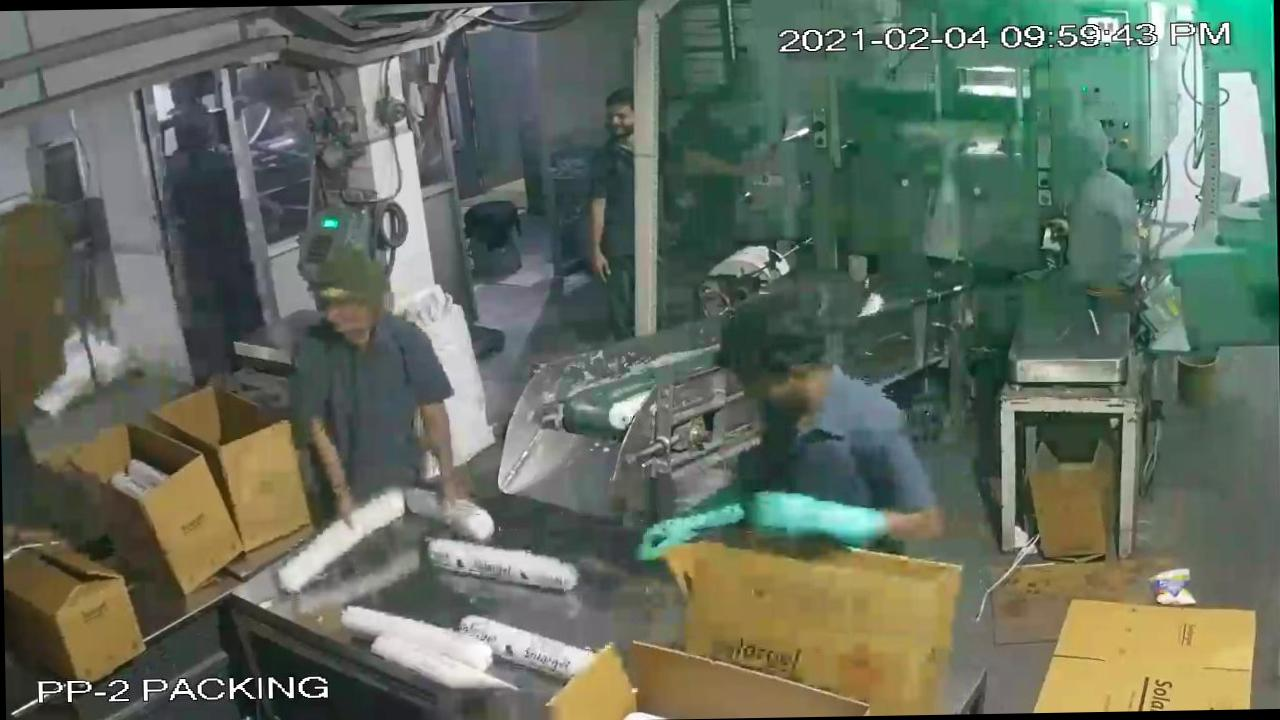Gloves: (744, 472, 957, 572), (605, 464, 768, 574)
No-gloves: (280, 387, 369, 534), (410, 373, 474, 525), (666, 132, 780, 192), (580, 184, 630, 297)
